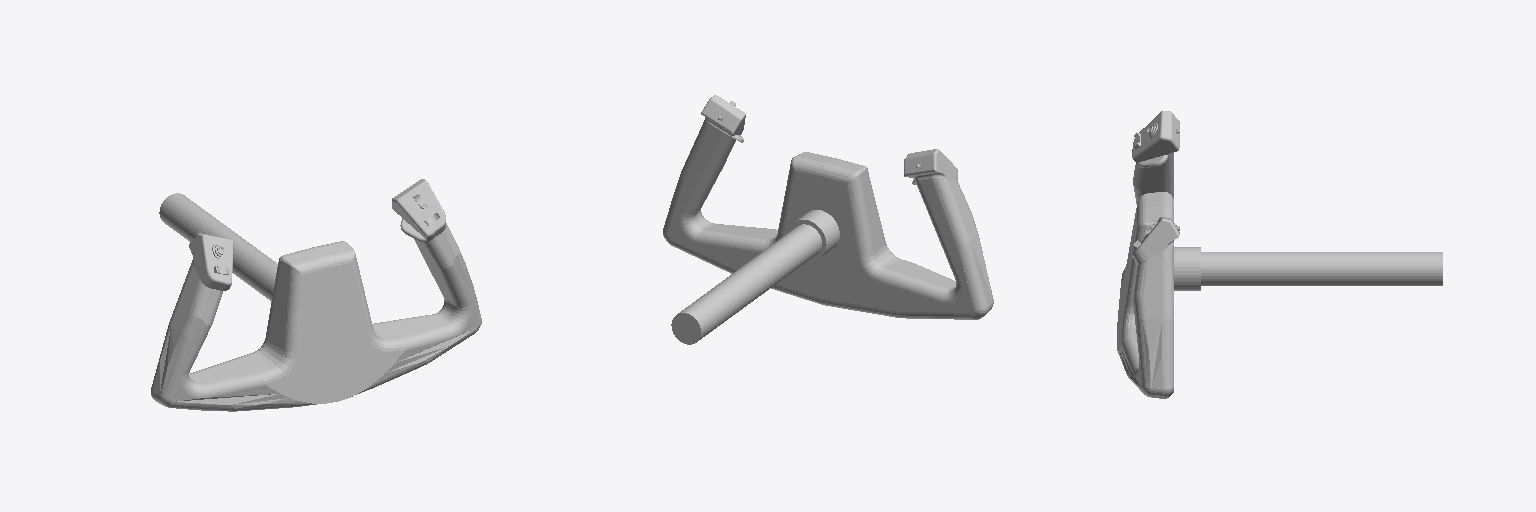
Rendered from Saitek Cessna Yoke.obj.
3 views of the same model, side by side, from view 1: azimuth 30°, elevation 25°; view 2: azimuth 150°, elevation 25°; view 3: azimuth 270°, elevation 25° (orthographic).
Parts seen in each view (by area): view 1: Saitek Cessna Yoke, Saitek Cessna Yoke-2; view 2: Saitek Cessna Yoke, Saitek Cessna Yoke-2; view 3: Saitek Cessna Yoke, Saitek Cessna Yoke-2.
Boxes of the visible parts, box(x1,y1,x2,y2) form: Saitek Cessna Yoke: box(151, 179, 481, 411); Saitek Cessna Yoke-2: box(159, 193, 277, 301); Saitek Cessna Yoke: box(663, 95, 993, 319); Saitek Cessna Yoke-2: box(671, 224, 821, 344); Saitek Cessna Yoke: box(1117, 111, 1200, 398); Saitek Cessna Yoke-2: box(1201, 252, 1442, 285).
Size of the model in its own units: 278 by 150 by 243.